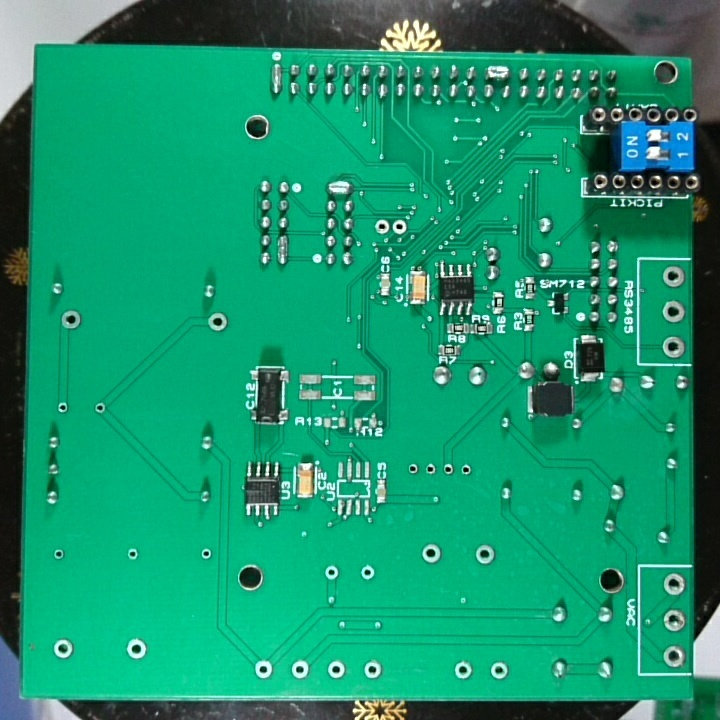F: (659, 262, 688, 292), (660, 606, 689, 634), (122, 635, 151, 662), (659, 643, 688, 670), (50, 635, 77, 663), (660, 571, 688, 598), (659, 334, 688, 360), (660, 298, 686, 325), (420, 539, 444, 567), (473, 541, 497, 569), (288, 657, 313, 683), (59, 308, 85, 332), (251, 656, 277, 680), (205, 310, 230, 334), (325, 658, 348, 682), (361, 658, 384, 682), (488, 660, 511, 683), (452, 658, 474, 680), (357, 561, 376, 585), (420, 458, 439, 480), (321, 562, 340, 583), (391, 217, 409, 238), (439, 458, 457, 479), (372, 217, 391, 236), (124, 544, 142, 564), (50, 545, 68, 564), (198, 543, 215, 563), (405, 459, 421, 480), (458, 459, 474, 480), (54, 398, 71, 417), (91, 400, 108, 418)
P: (268, 60, 285, 99), (482, 62, 513, 83), (274, 232, 291, 268), (324, 178, 355, 196)
